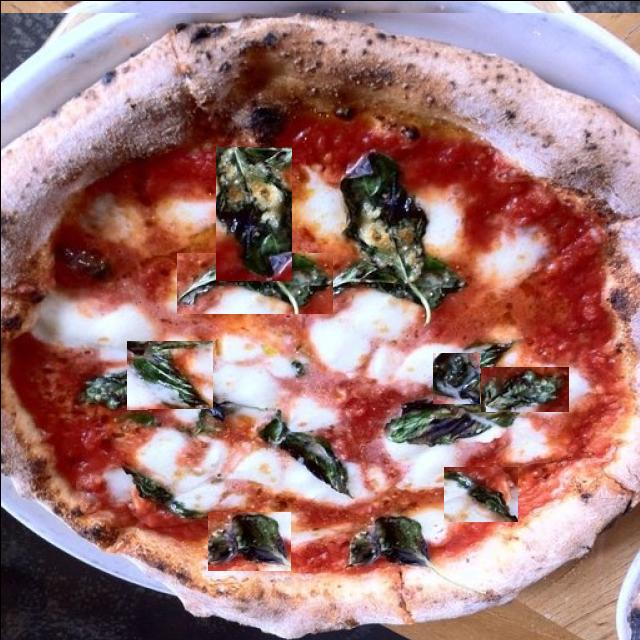basil: (215, 146, 291, 280), (176, 252, 332, 312), (281, 416, 380, 486), (126, 340, 212, 408), (207, 511, 290, 569), (147, 403, 258, 444), (443, 466, 517, 520), (480, 366, 568, 410), (432, 352, 479, 402)
pizza: (0, 11, 640, 638)
